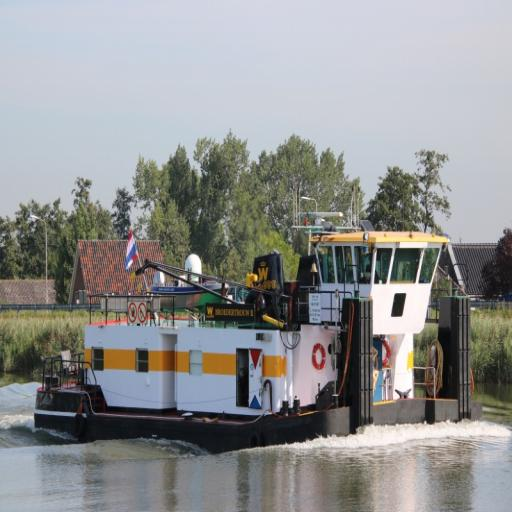tugboat: (31, 209, 480, 460)
